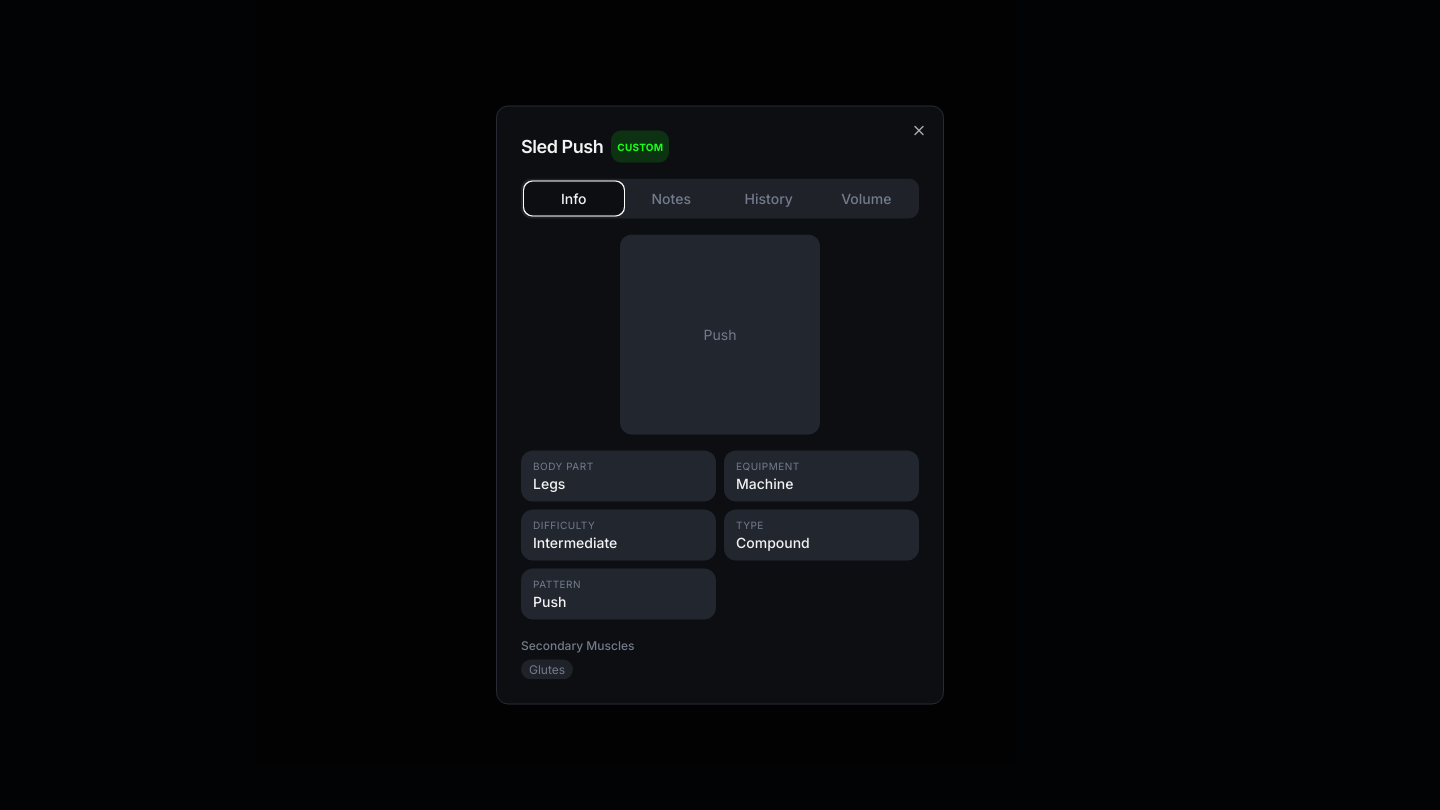
Test: ExerciseDetailModal — Notes tab › loads the existing sticky note into the editor
The width and height of the screenshot is (1440, 810).
Press the mouse on the tab "Notes" at (671, 198), box [622,182,720,214]
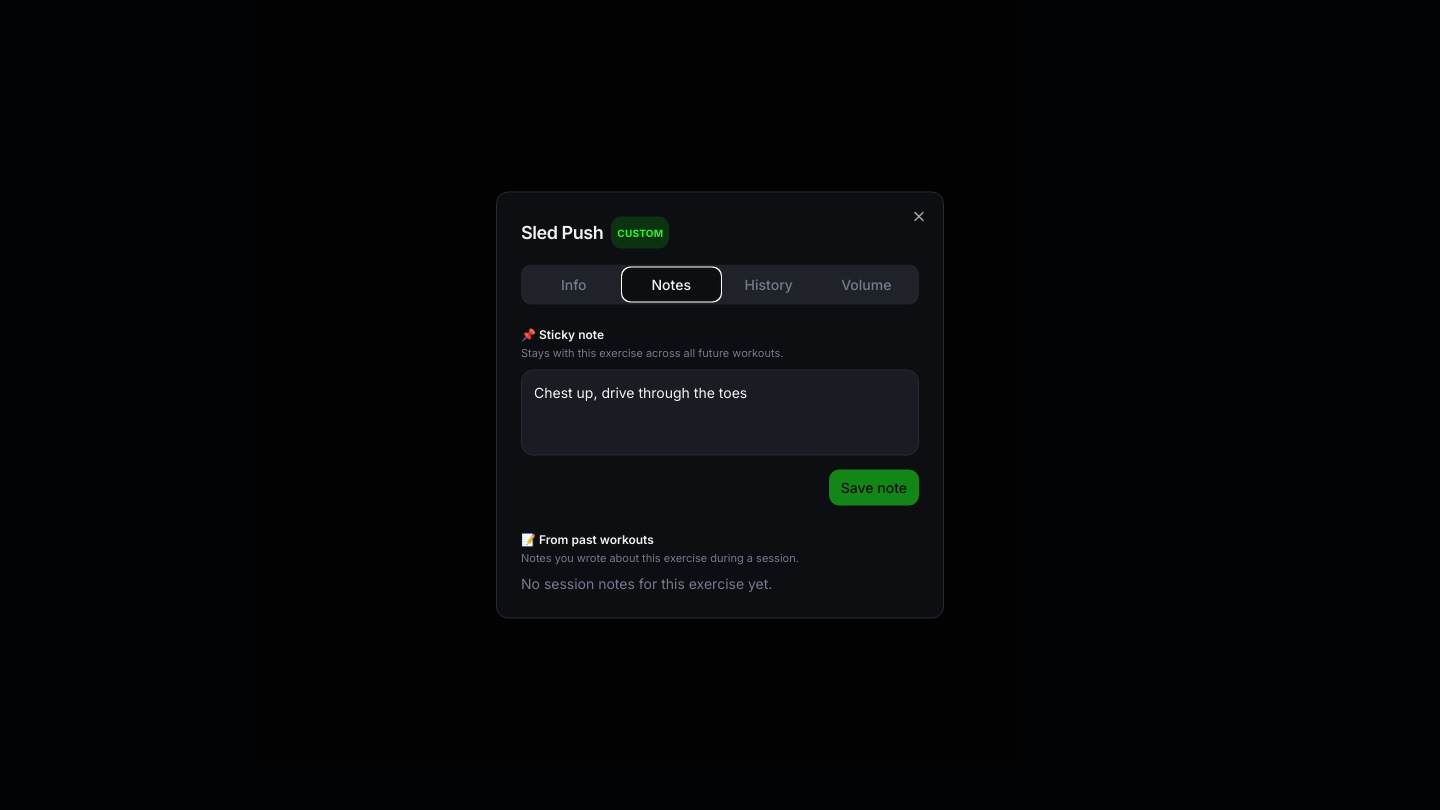
Check: the text box holds "Chest up, drive through the toes", box [521,369,919,455]
